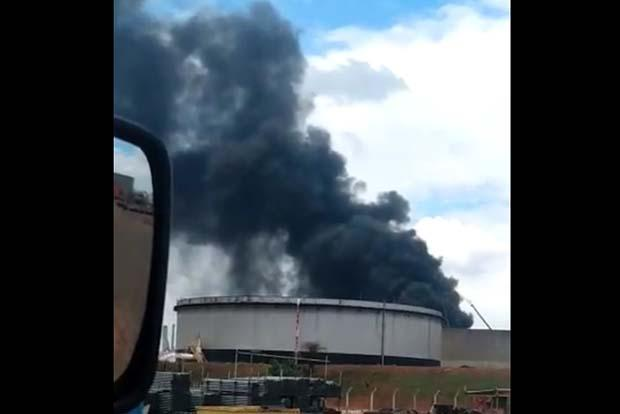smoke: (171, 58, 310, 226), (326, 226, 416, 296)
